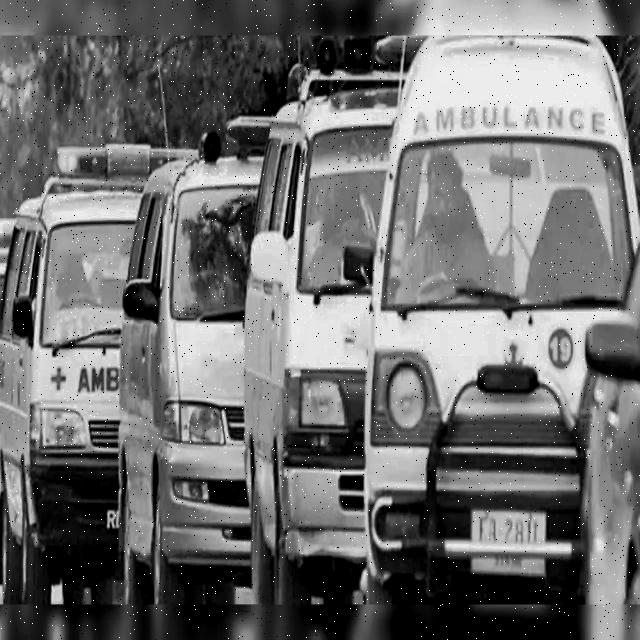Ambulance: (366, 15, 640, 618), (233, 28, 391, 630), (1, 100, 127, 632)
